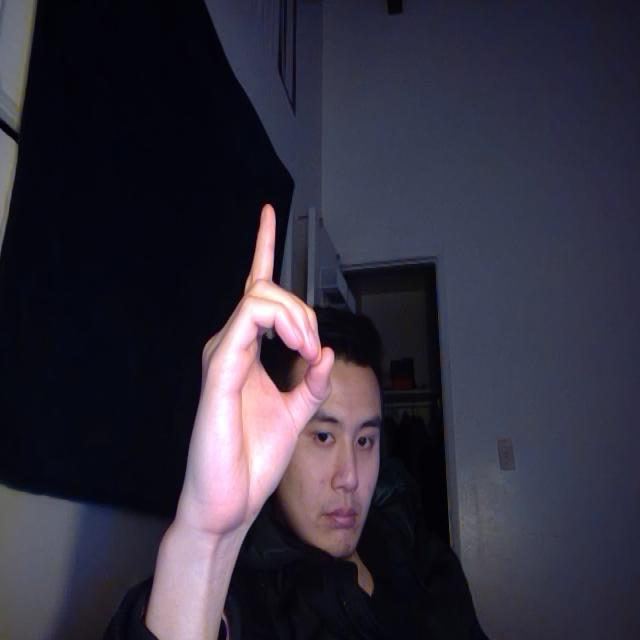D: (156, 179, 358, 542)
